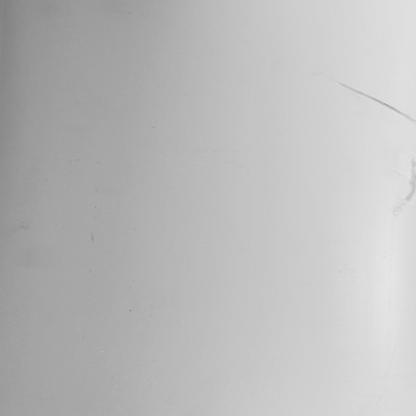sunshang: (342, 80, 415, 122), (396, 155, 416, 213)
